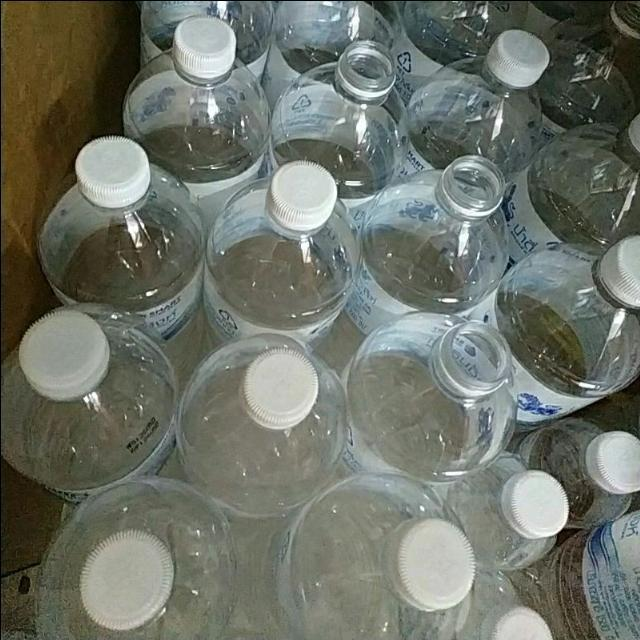PET Bottle: (0, 8, 640, 640)
